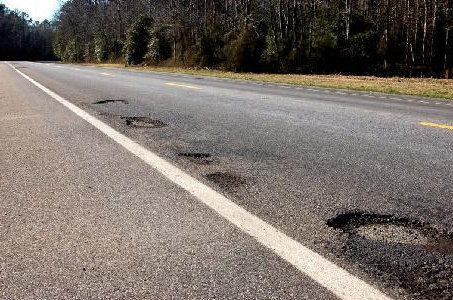pothole: (326, 210, 438, 248), (205, 170, 249, 192), (121, 114, 168, 131), (175, 149, 214, 164), (93, 97, 130, 107)
